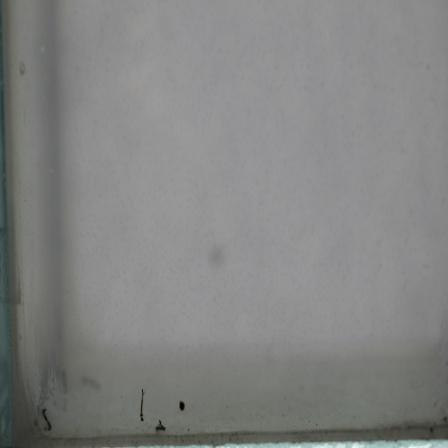Jentik-Nyamuk: (136, 387, 148, 425), (38, 406, 54, 434), (151, 417, 169, 436), (176, 396, 189, 418)
